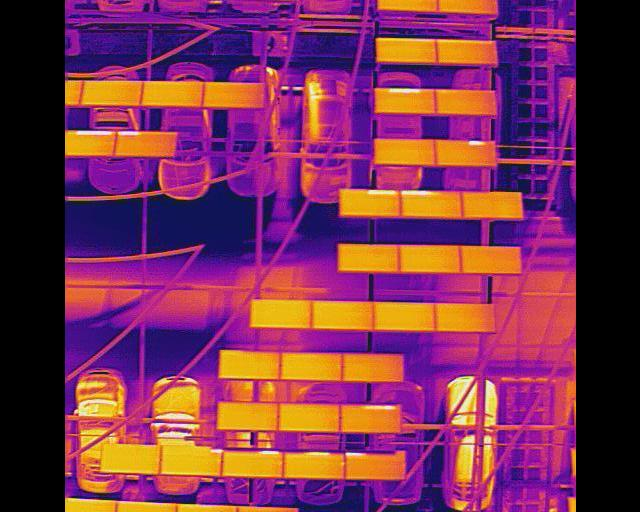Cell: (159, 448, 222, 477)
No-Anomaly: (278, 353, 343, 382), (276, 402, 341, 431), (309, 301, 373, 330), (248, 299, 311, 328), (335, 244, 400, 272), (217, 352, 279, 381), (370, 303, 434, 331), (434, 303, 495, 332), (342, 354, 403, 383), (459, 246, 520, 275), (217, 403, 277, 432), (398, 245, 460, 273), (140, 81, 204, 108), (432, 89, 495, 116), (100, 446, 159, 474), (79, 81, 142, 107), (460, 192, 522, 218), (203, 83, 264, 109), (374, 140, 436, 165), (436, 40, 497, 63), (345, 457, 403, 481), (374, 40, 437, 62), (435, 0, 498, 14), (114, 502, 175, 512), (175, 504, 236, 512)
Unclassified: (283, 452, 344, 480), (221, 451, 282, 479), (401, 191, 464, 218), (434, 140, 495, 167), (339, 190, 400, 217), (338, 405, 399, 432), (115, 131, 176, 157), (374, 89, 436, 114), (64, 131, 115, 156), (377, 0, 438, 12)
